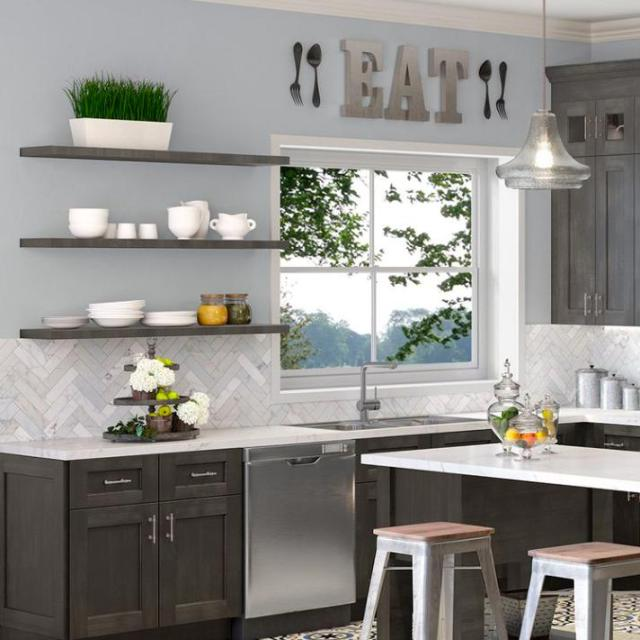dishwasher: (241, 437, 355, 618)
